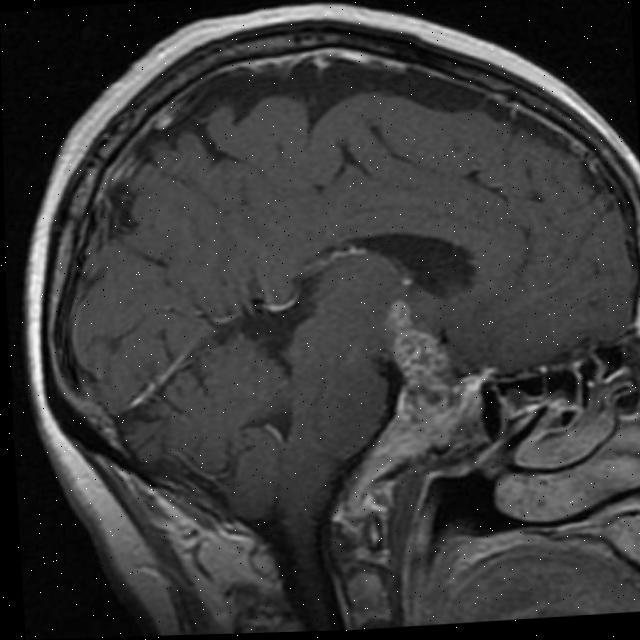Pituitary: (383, 293, 451, 421)
